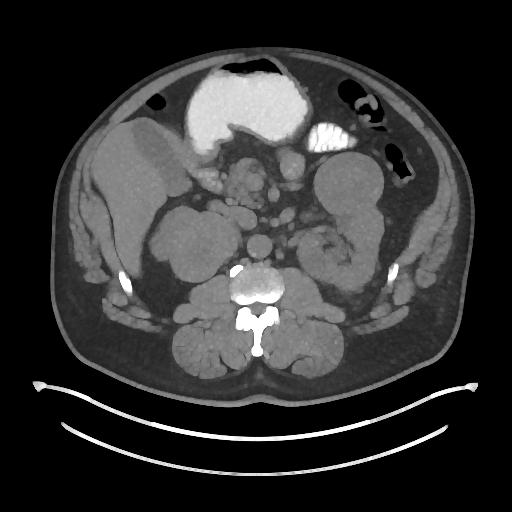Lesion: (312, 152, 386, 217)
